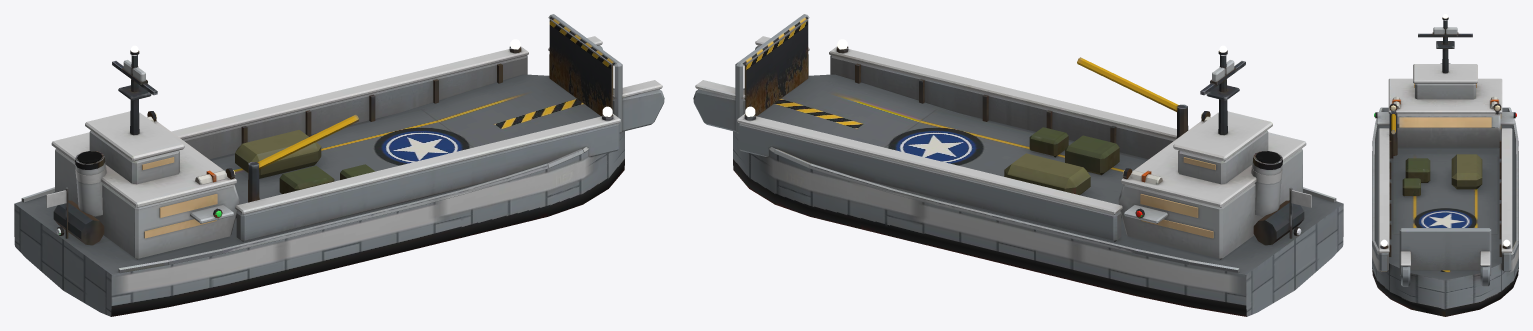
Rendered from lst.allies.glb.
The picture shows the model from 3 angles, left to right: view 1: azimuth 30°, elevation 25°; view 2: azimuth 150°, elevation 25°; view 3: azimuth 270°, elevation 25°; orthographic projection. The views are drawn at different scales.
Visible parts, largest first — view 1: hull_mesh, ramp_mesh, doorL_mesh; view 2: hull_mesh, ramp_mesh, doorR_mesh; view 3: hull_mesh, ramp_mesh, doorR_mesh, doorL_mesh, radar_mesh.
Boxes of the visible parts, x1=… form: hull_mesh: x1=14, y1=39, x2=624, y2=316; ramp_mesh: x1=548, y1=14, x2=622, y2=133; doorL_mesh: x1=612, y1=80, x2=664, y2=131; hull_mesh: x1=733, y1=39, x2=1343, y2=316; ramp_mesh: x1=735, y1=14, x2=809, y2=133; doorR_mesh: x1=693, y1=80, x2=745, y2=131; hull_mesh: x1=1372, y1=14, x2=1518, y2=316; ramp_mesh: x1=1399, y1=228, x2=1491, y2=275; doorR_mesh: x1=1480, y1=251, x2=1490, y2=286; doorL_mesh: x1=1400, y1=251, x2=1410, y2=286; radar_mesh: x1=1432, y1=27, x2=1458, y2=36.
Bounding box in the file's own units: 1.47 × 0.571 × 0.48.
Materials: 3 (1 with a texture image).
